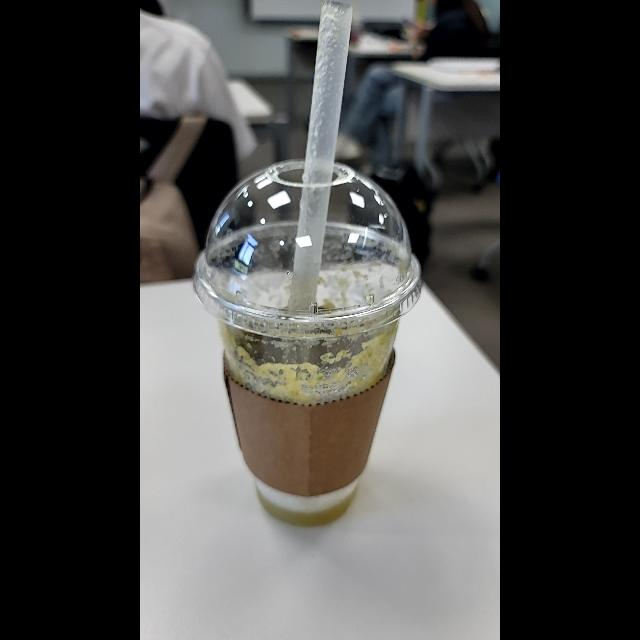plastic_cup: (188, 148, 434, 532)
plastic_cup_lid: (191, 157, 429, 335)
straw: (288, 9, 350, 364)
